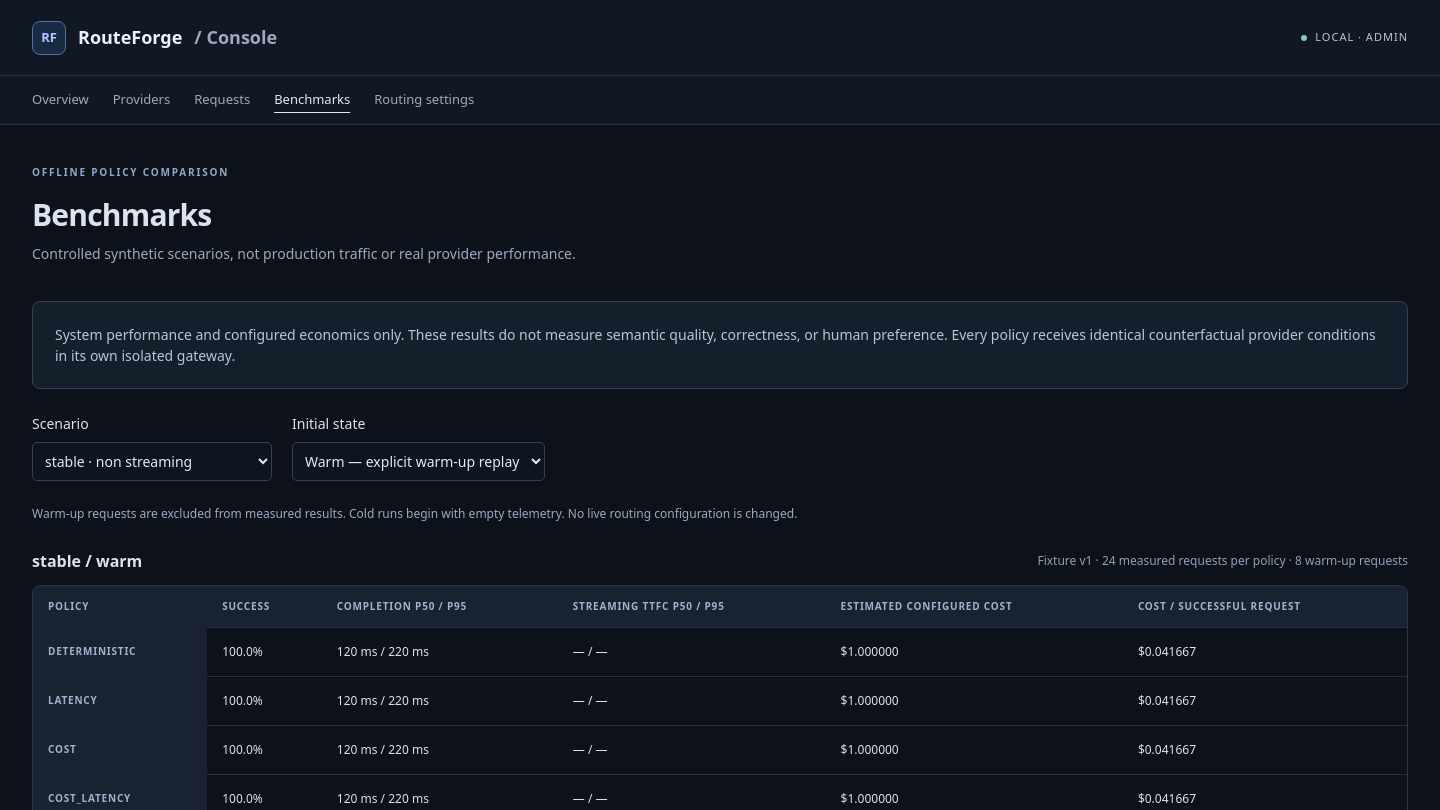
it: changes scenarios and initial state, separating TTFC and unavailable costs
This screenshot has width=1440, height=810.
Step 1. Select "streaming · streaming" in the dropdown labelled "Scenario" → (152, 461), box top-left (32, 442), bottom-right (272, 480)
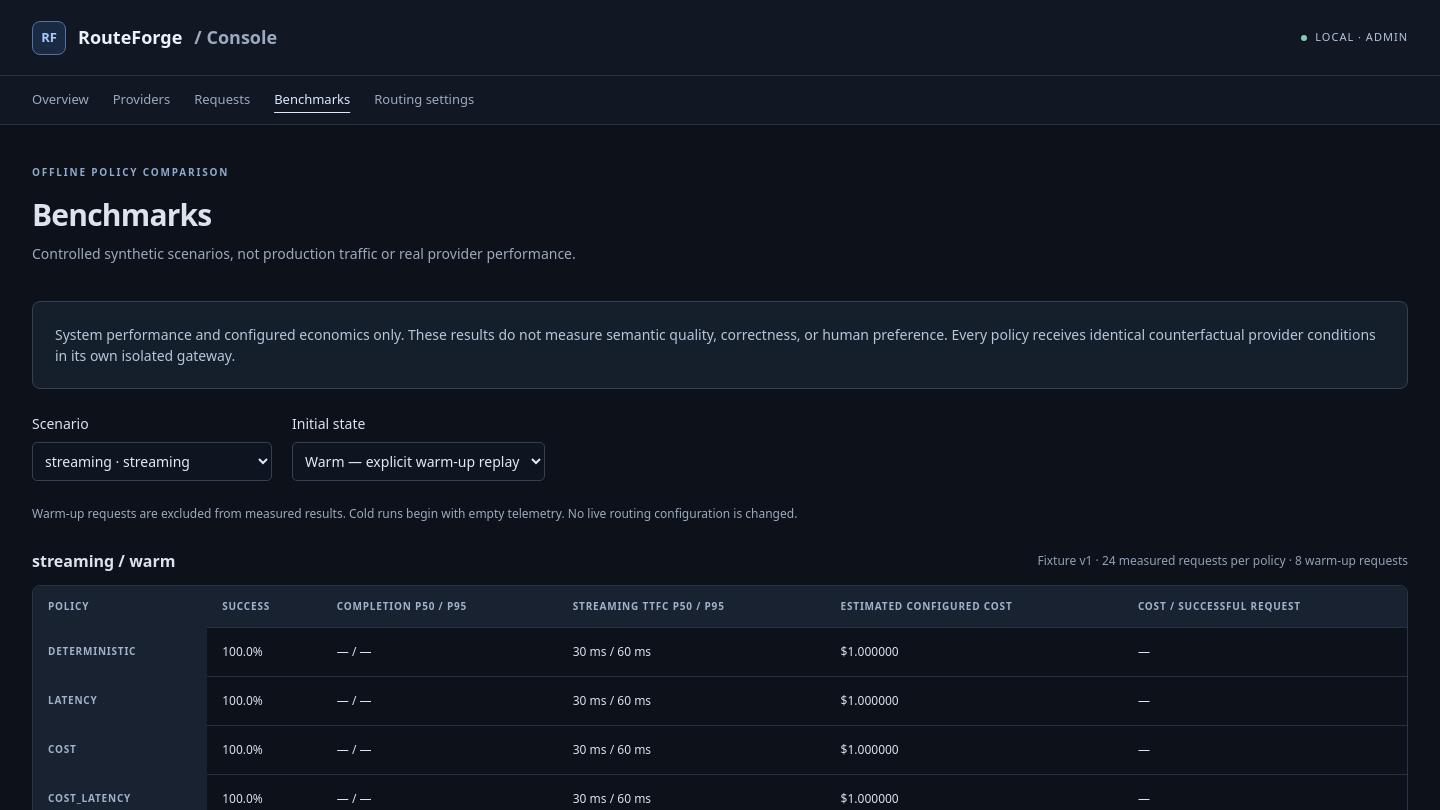
Expected: the heading "streaming / warm" is shown, top-left (32, 548), bottom-right (176, 572)
Step 2. Select "Cold — empty telemetry" in the dropdown labelled "Initial state" → (418, 461), box top-left (292, 442), bottom-right (545, 480)
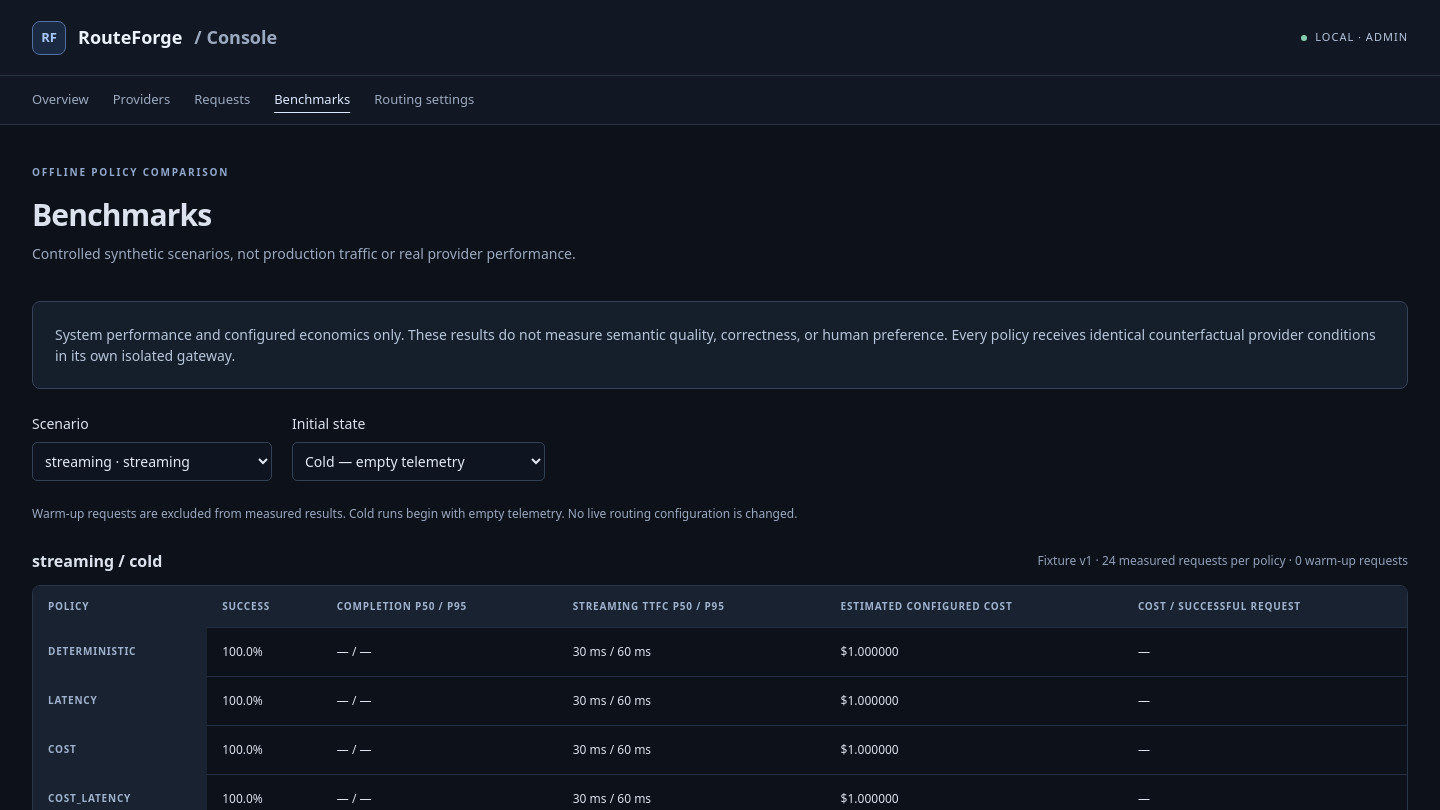
Expected: the heading "streaming / cold" is shown, top-left (32, 548), bottom-right (162, 572)
Expected: the text "0 warm-up requests" is shown, top-left (1037, 552), bottom-right (1408, 570)
